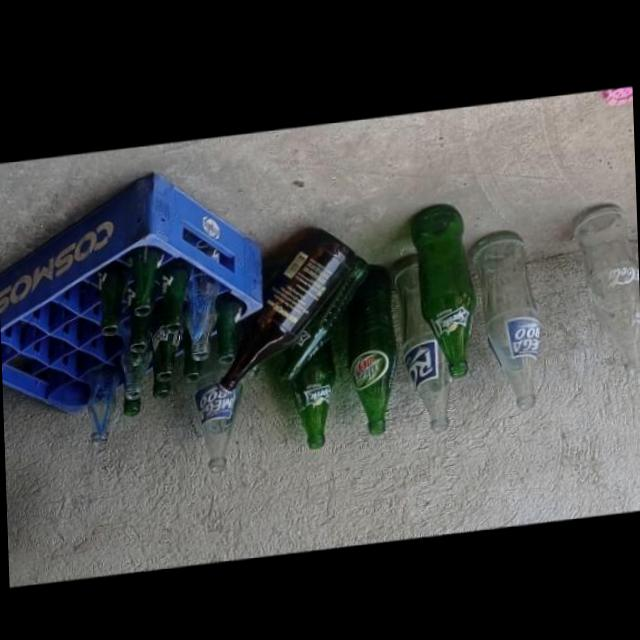chai_thuy_tinh: (214, 227, 348, 389), (464, 229, 535, 409), (566, 205, 639, 376), (403, 201, 470, 377), (273, 252, 362, 379), (386, 251, 445, 432), (340, 262, 391, 434), (188, 344, 238, 469), (281, 335, 330, 446), (178, 261, 213, 356), (114, 291, 146, 394), (143, 292, 179, 377), (86, 254, 124, 331), (81, 360, 115, 440), (149, 255, 185, 329), (120, 240, 157, 311), (208, 286, 238, 361), (116, 278, 143, 347), (141, 328, 165, 394), (176, 321, 196, 378)
